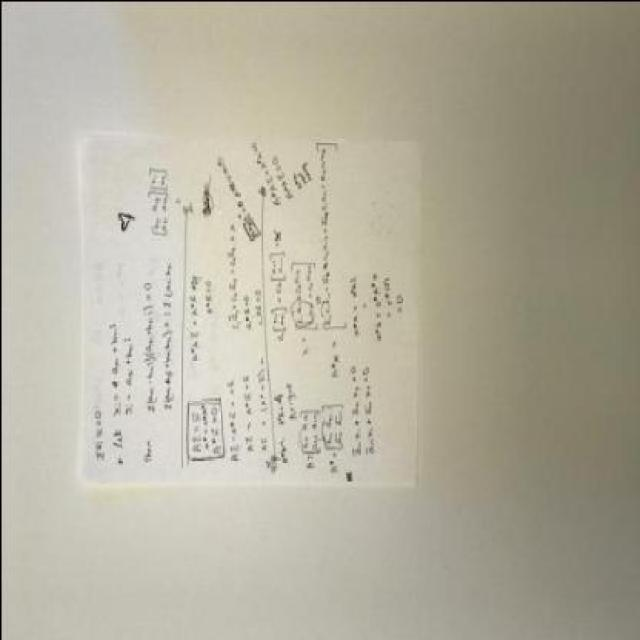PAPER: (76, 127, 421, 485)
